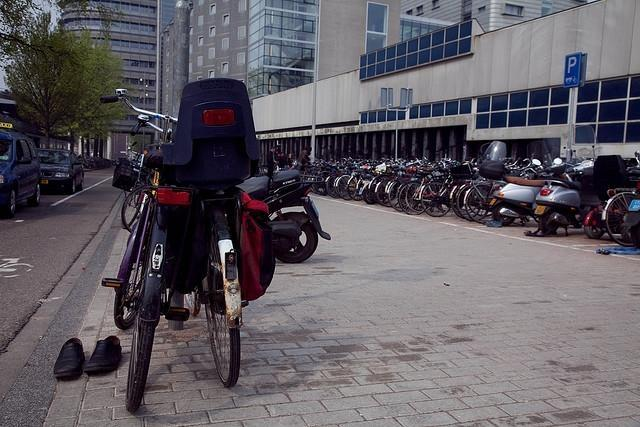bicycle: (99, 162, 238, 405), (98, 160, 192, 402), (99, 90, 191, 324), (199, 183, 243, 387), (396, 158, 475, 215), (415, 162, 482, 218), (376, 157, 428, 208), (602, 187, 640, 250), (386, 166, 434, 210), (464, 182, 494, 224), (456, 178, 476, 222), (347, 169, 369, 201), (452, 182, 466, 220)
car: (3, 128, 42, 219), (38, 147, 85, 193)
motorcycle: (235, 168, 332, 264), (490, 159, 577, 226), (534, 172, 600, 236), (582, 178, 638, 239), (473, 140, 505, 174), (622, 192, 640, 248)
